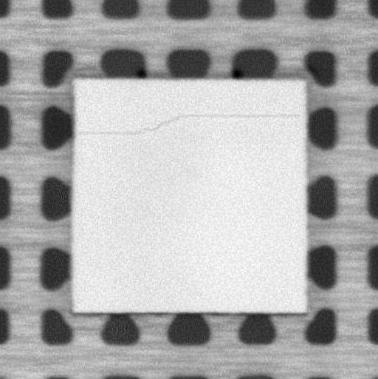DIE_CRACK: (79, 109, 303, 137)
